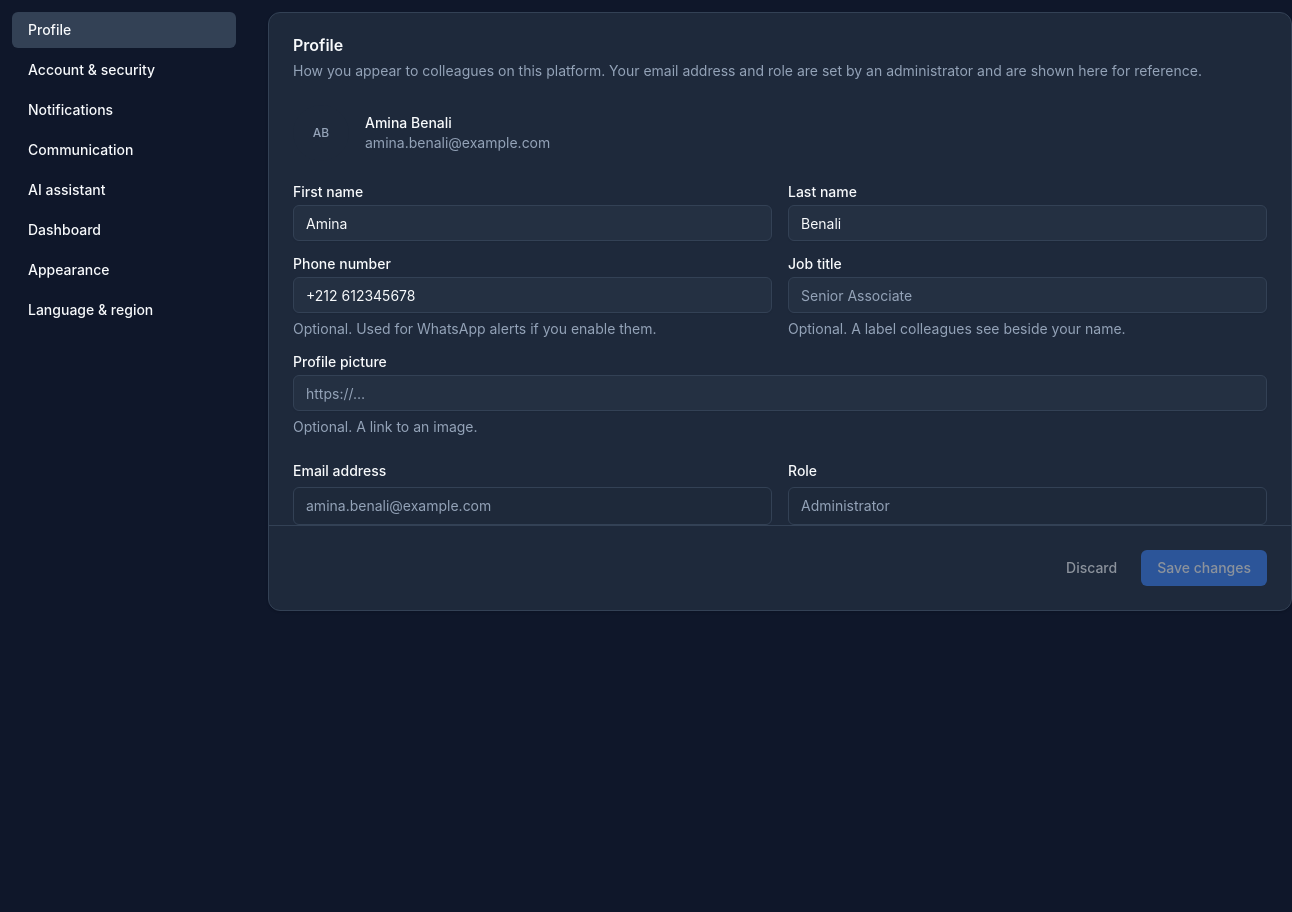
Test: feature ownership › shows the channels split across the two sections
This screenshot has width=1292, height=912.
Note: Notifications is *what* you are told about…
Click the button "Notifications": (124, 110) 12,92 -> 236,128
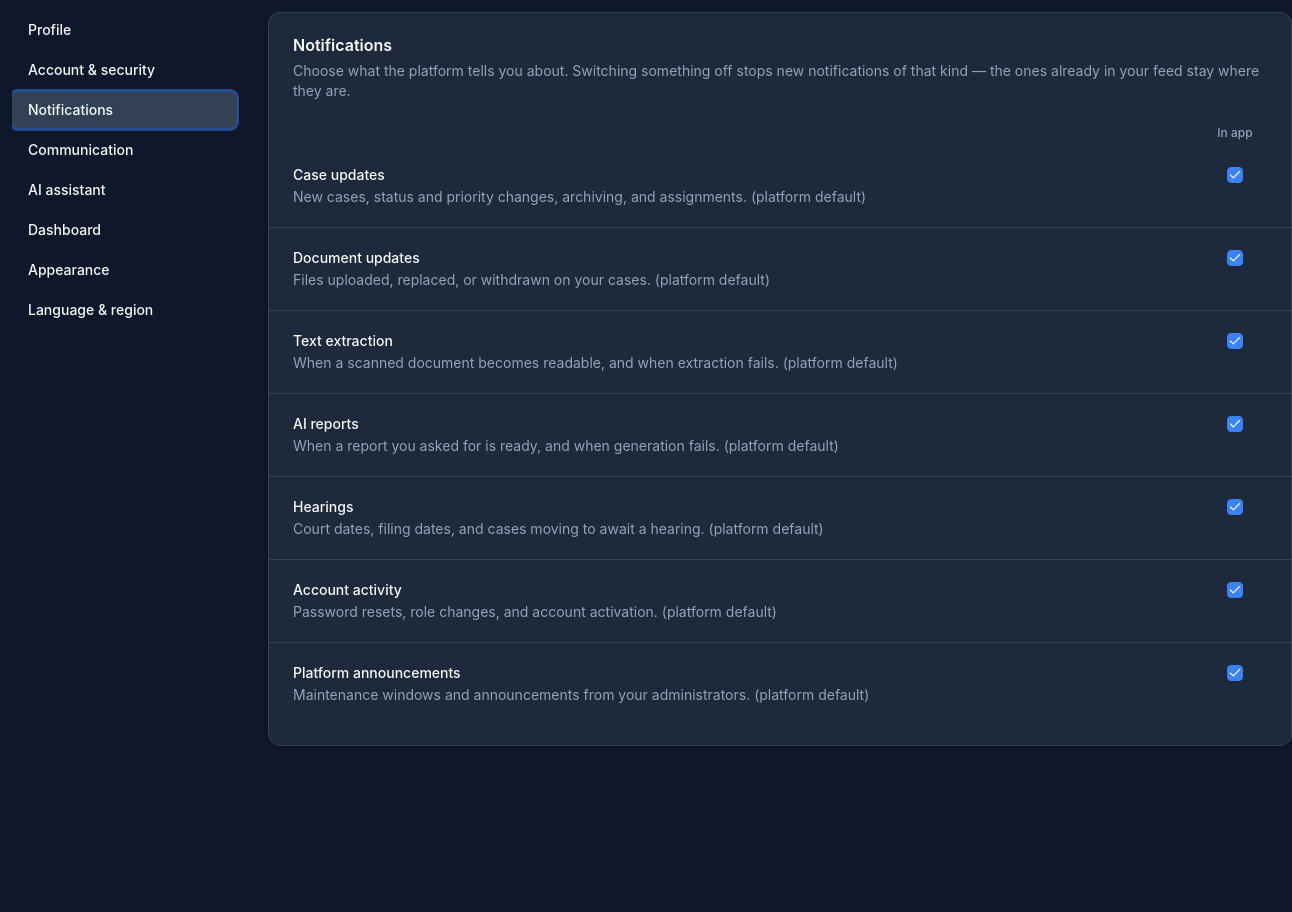
Result: the checkbox named "Case updates — In app" is shown at 1227,167 -> 1243,183
Note: …Communication is *how* it reaches you. One store, two projections.
Click the button "Communication": (124, 150) 12,132 -> 236,168
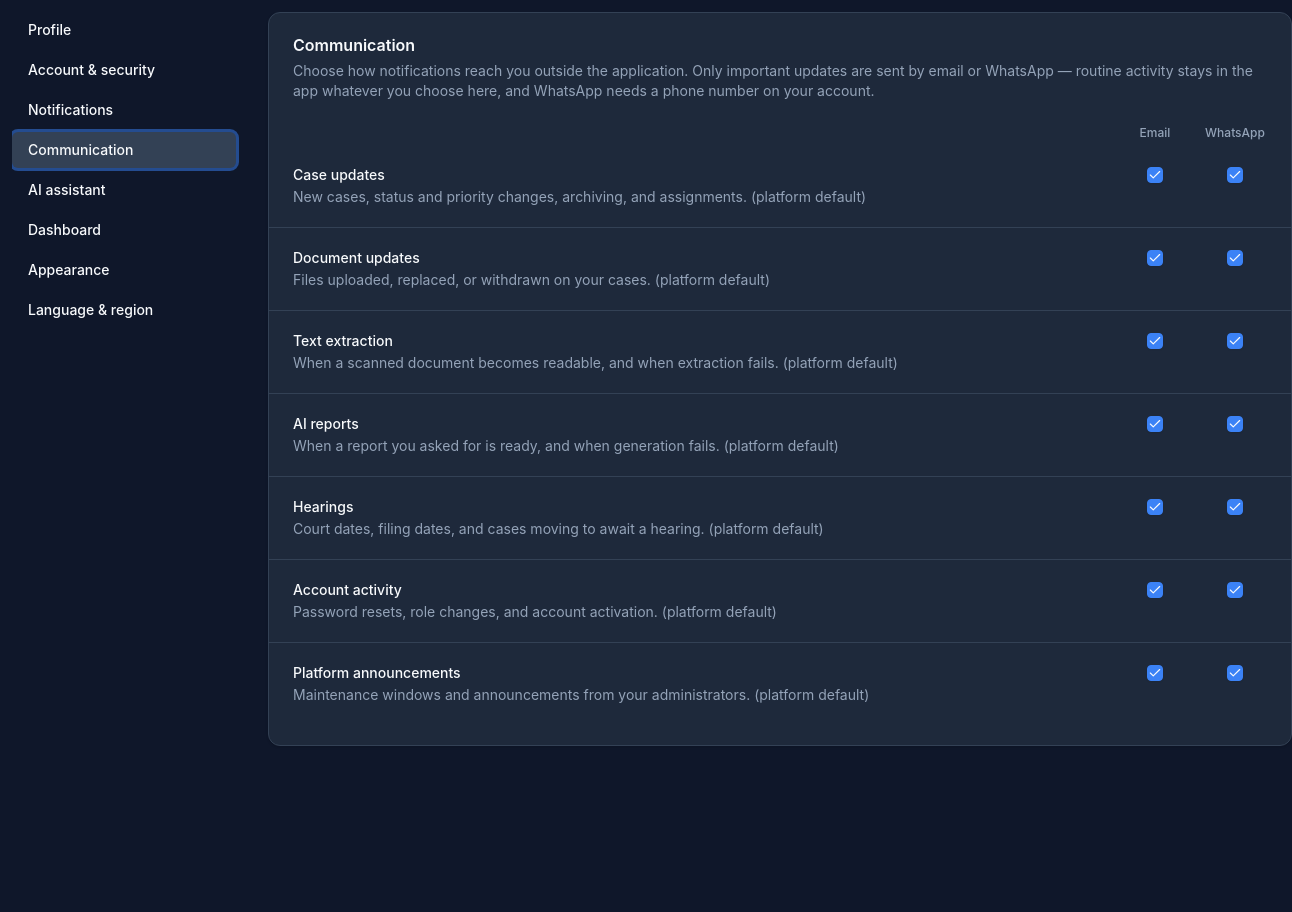
Expected: the checkbox named "Case updates — WhatsApp" is shown, 1227,167 -> 1243,183
Result: the checkbox named "Case updates — Email" is shown at 1147,167 -> 1163,183
